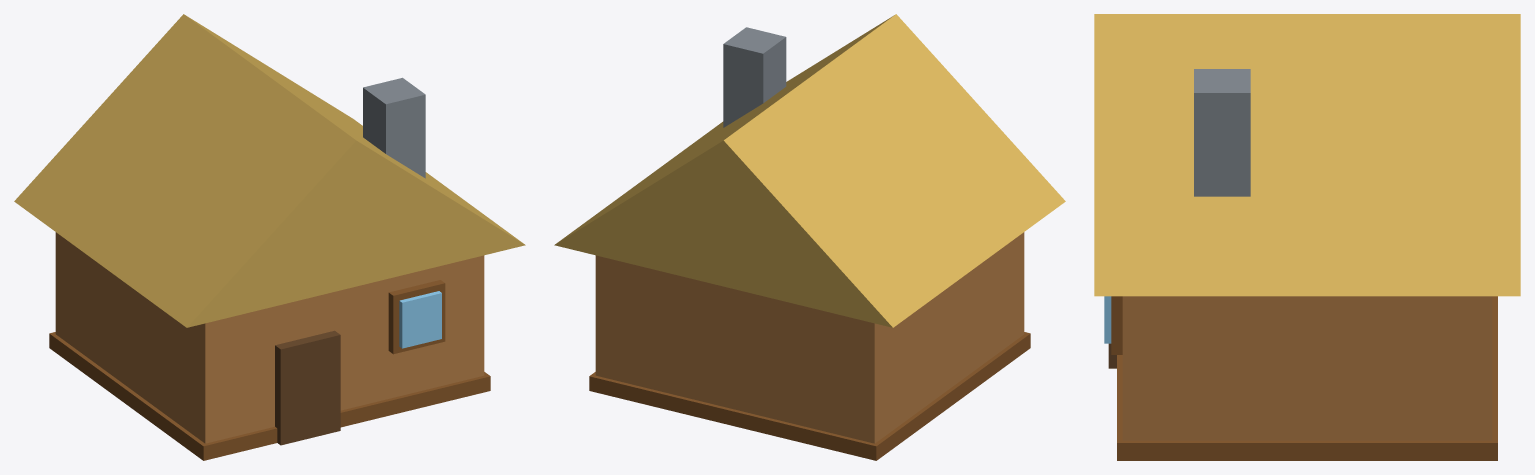
The model's file is house_1.glb.
The picture shows the model from 3 angles, left to right: view 1: azimuth 30°, elevation 25°; view 2: azimuth 150°, elevation 25°; view 3: azimuth 270°, elevation 25°; orthographic projection. The views are drawn at different scales.
Visible parts, largest first — view 1: palha.001, madeira, madeira_escura.001, porta.001, pedra_escura, vidro; view 2: palha.001, madeira, madeira_escura.001, pedra_escura; view 3: palha.001, madeira, madeira_escura.001, pedra_escura.
Part boxes in pixels (box(x1,y1,x2,y2)): palha.001: box(14, 14, 525, 327); madeira: box(55, 232, 484, 443); madeira_escura.001: box(49, 280, 490, 460); porta.001: box(275, 330, 340, 445); pedra_escura: box(363, 77, 425, 178); vidro: box(399, 291, 441, 348); palha.001: box(554, 14, 1065, 327); madeira: box(595, 232, 1024, 443); madeira_escura.001: box(589, 332, 1030, 460); pedra_escura: box(723, 27, 786, 127); palha.001: box(1094, 14, 1520, 296); madeira: box(1122, 296, 1492, 440); madeira_escura.001: box(1111, 296, 1497, 460); pedra_escura: box(1194, 69, 1250, 196).
Bounding box in the file's own units: 1.7 × 1.4 × 1.5.
